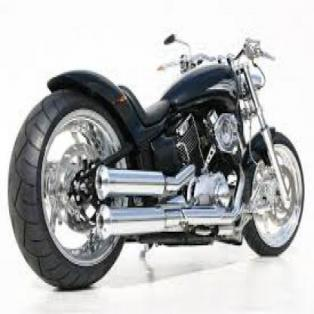Motocicleta: (6, 18, 306, 289)
